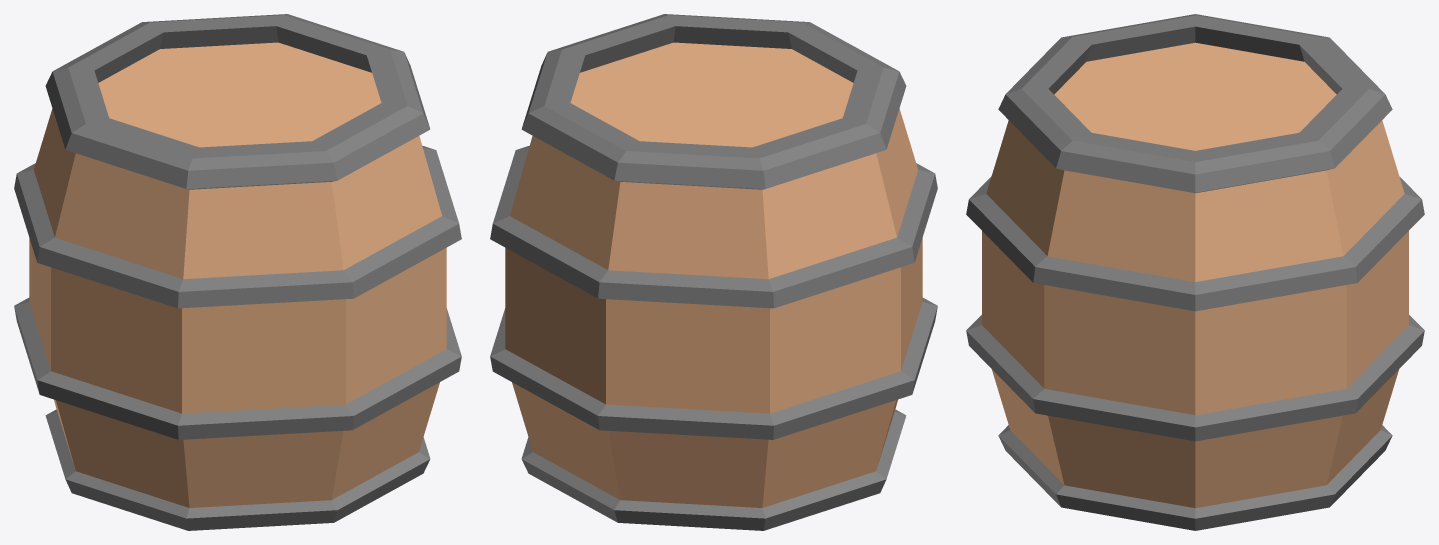
Rendered from Tonneau_1.FBX.
The picture shows the model from 3 angles, left to right: view 1: azimuth 30°, elevation 25°; view 2: azimuth 150°, elevation 25°; view 3: azimuth 270°, elevation 25°; orthographic projection.
Visible parts, largest first — view 1: Cylinder001; view 2: Cylinder001; view 3: Cylinder001.
Part boxes in pixels (bbox=[...]): Cylinder001: bbox=[14, 14, 461, 530]; Cylinder001: bbox=[490, 14, 937, 530]; Cylinder001: bbox=[966, 14, 1424, 530].
Size of the model in its own units: 31.18 by 27.56 by 31.18.
